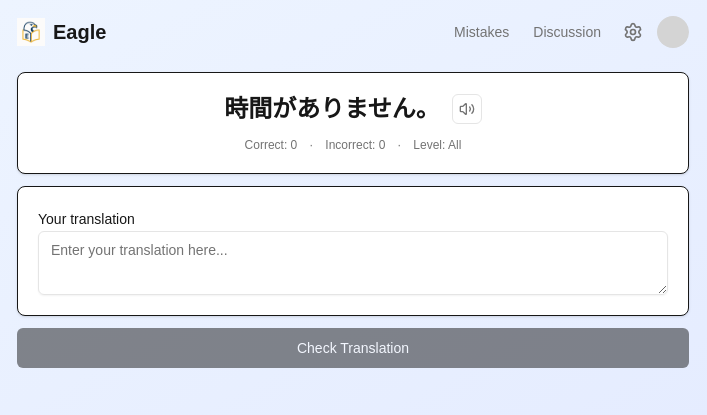
Scenario: review phase › shows the correct verdict and no Explain affordance when right
Expected: the text "時間がありません。" is shown, [224,93,440,125]
Type "I don't have time." into the text box named "Your English translation" at (353, 263), box [38,231,668,295]
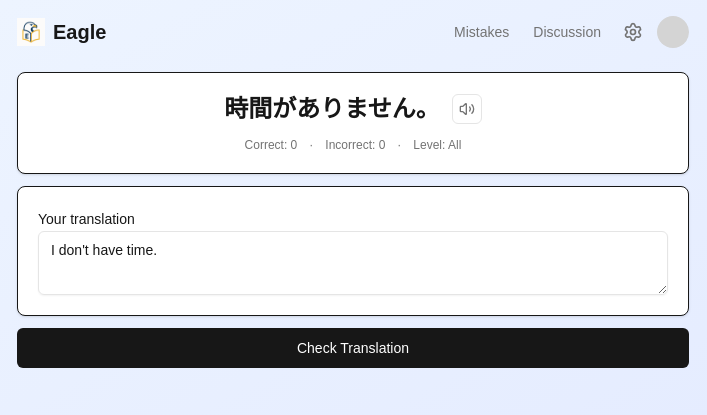
Click the button "Check Translation" at (353, 348), box [17,328,689,368]
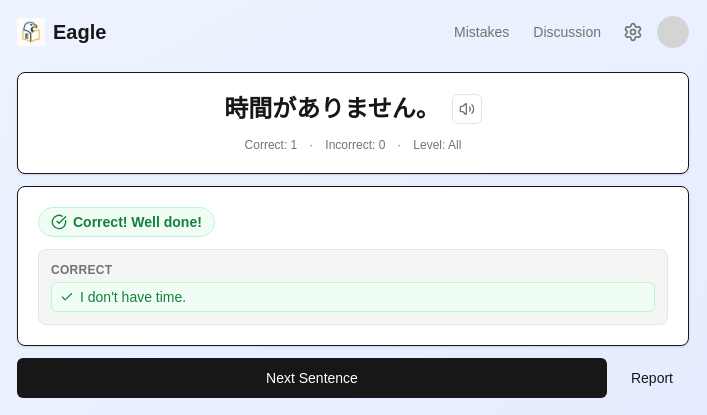
Expected: the text "Correct! Well done!" is shown, [38,207,215,237]
Expected: the text "Correct: 1" is shown, [245,137,297,153]
